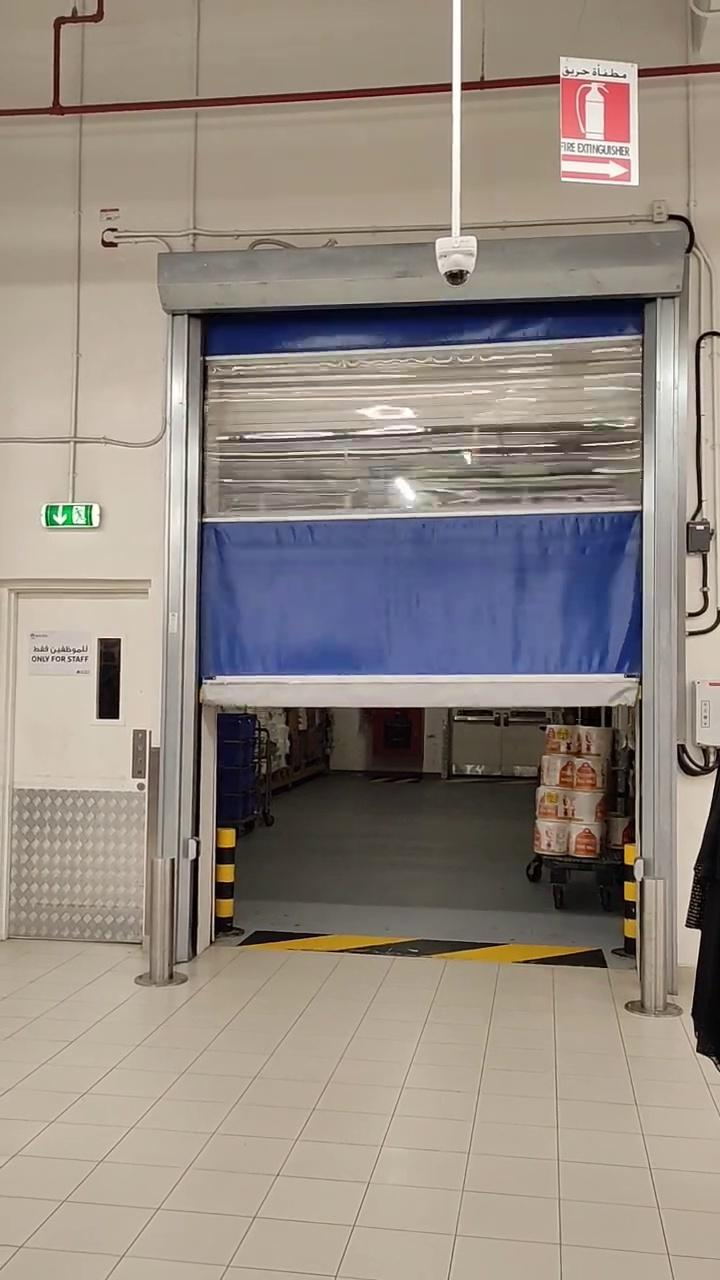Strip: (235, 923, 607, 973)
